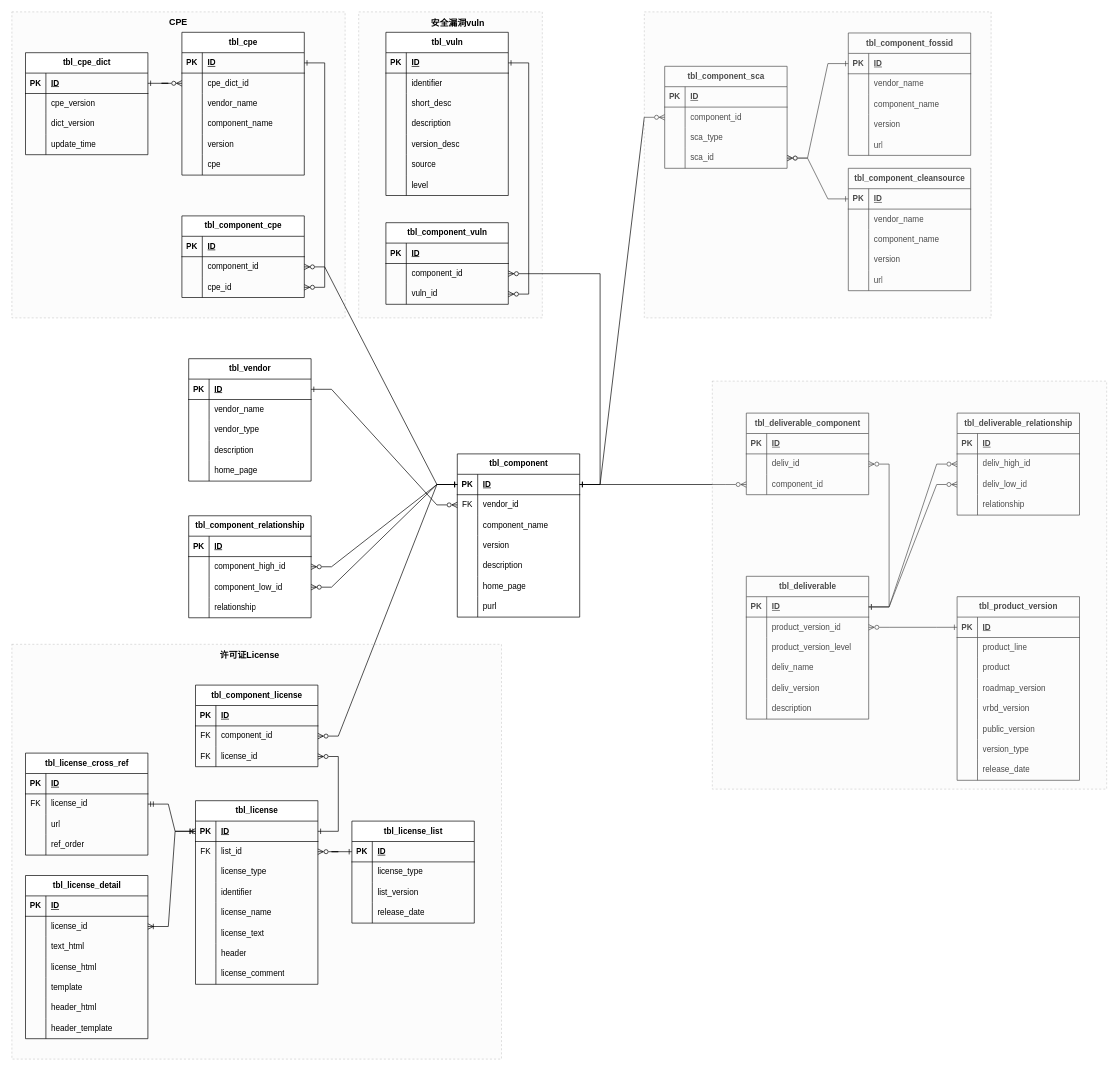
Image size: 1119x1071. Some labels were removed from this diagram. The centre of each missing label's shape, as x and y in pixels:
"SCA开源组件" belongs at point 817,164.
"交付件" belongs at point 909,584.
